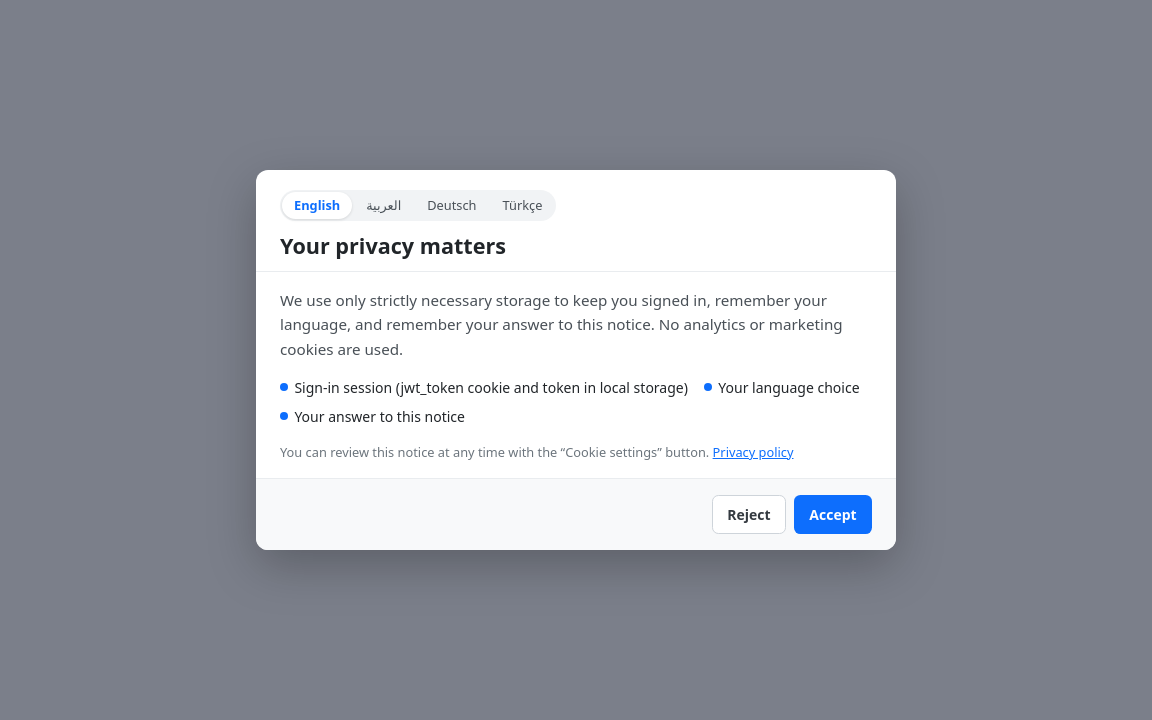
Test: switches to Türkçe with an LTR layout
The width and height of the screenshot is (1152, 720).
Later steps or results of the test are not shown.
Click the button "Türkçe".
click(522, 206)  # box [490,192,554,219]
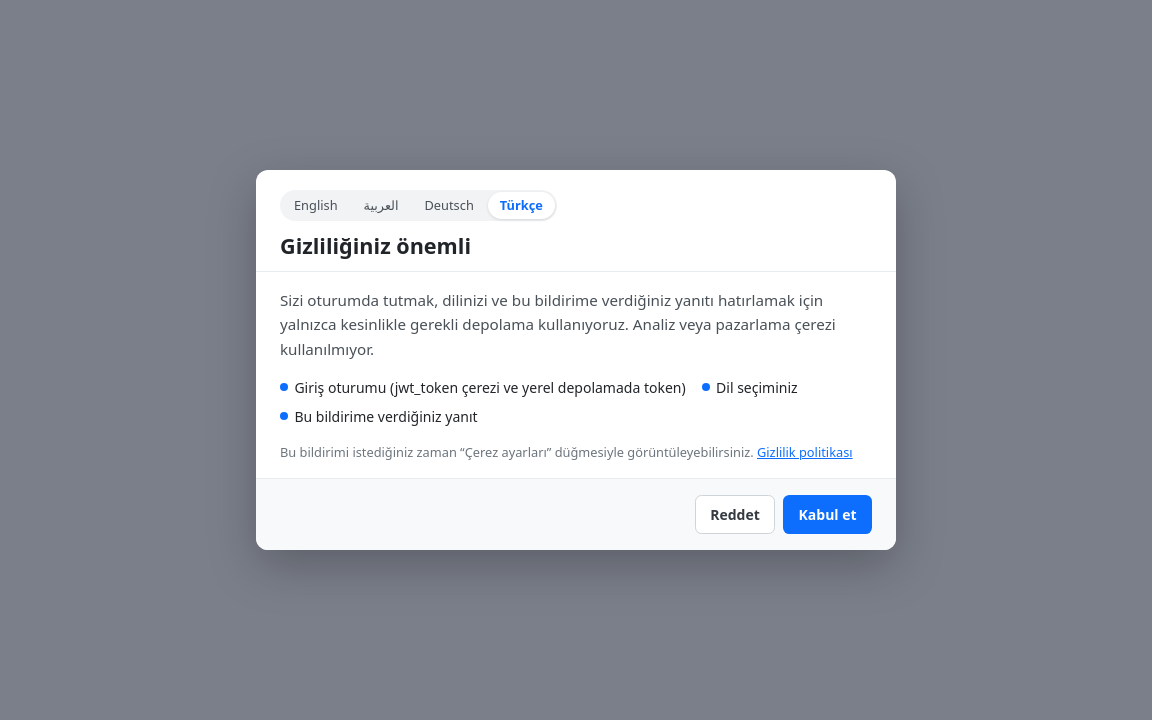
Now the heading "Gizliliğiniz önemli" is shown, box [280,231,471,260]
